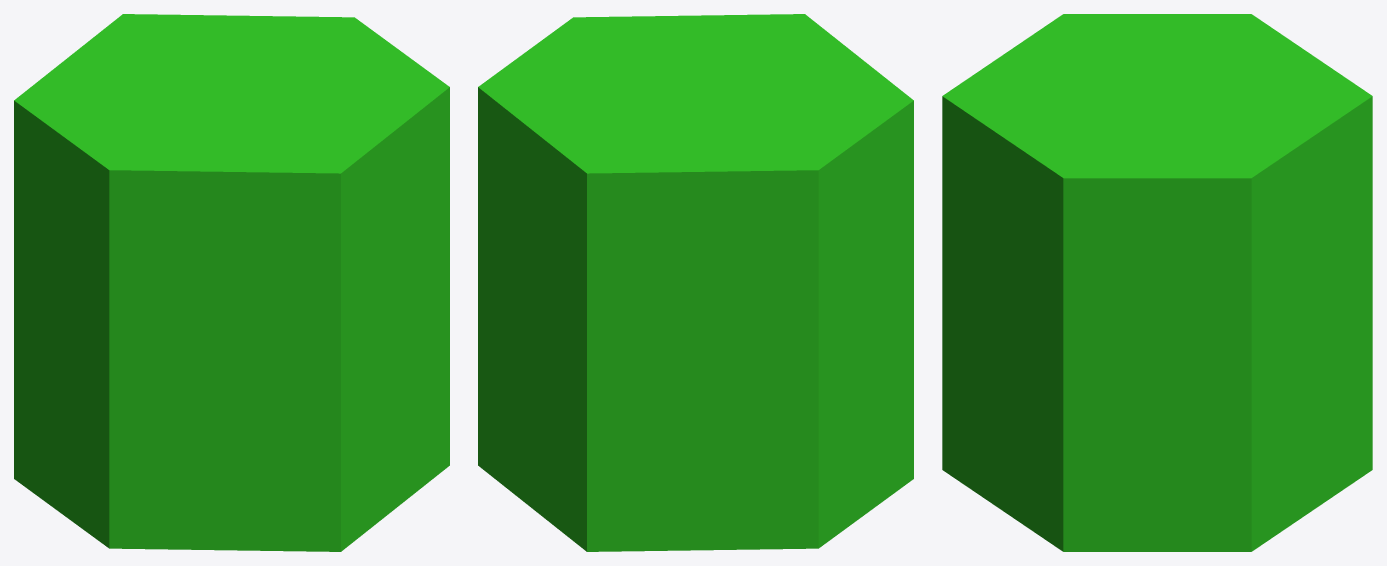
Rendered from NormalContent.fbx.
3 views of the same model, side by side, from view 1: azimuth 30°, elevation 25°; view 2: azimuth 150°, elevation 25°; view 3: azimuth 270°, elevation 25° (orthographic).
Parts seen in each view (by area): view 1: Model; view 2: Model; view 3: Model.
Boxes of the visible parts, left/top/right/bottom form: Model: left=14, top=14, right=449, bottom=551; Model: left=478, top=14, right=913, bottom=551; Model: left=942, top=14, right=1372, bottom=551.
Size of what is drawn, in the model's own units: 0.2901 by 0.308 by 0.3215.
